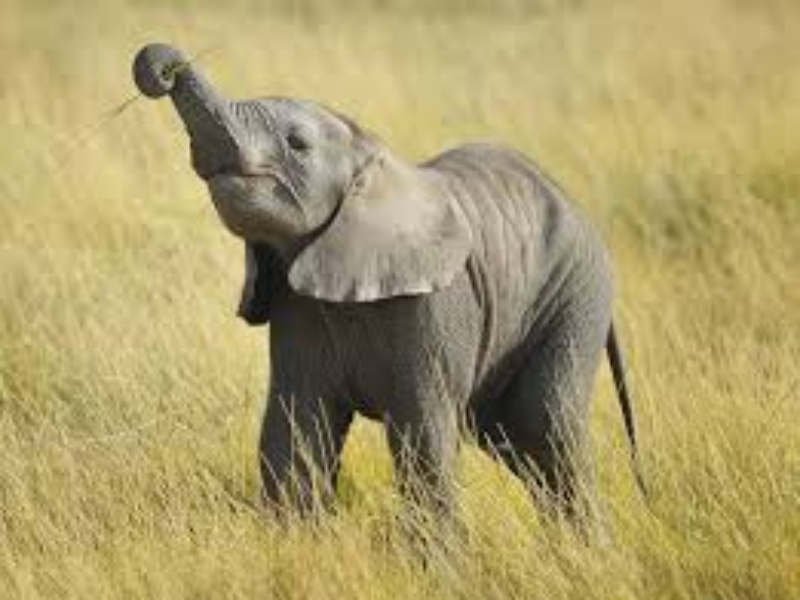elephant: (79, 40, 644, 456)
